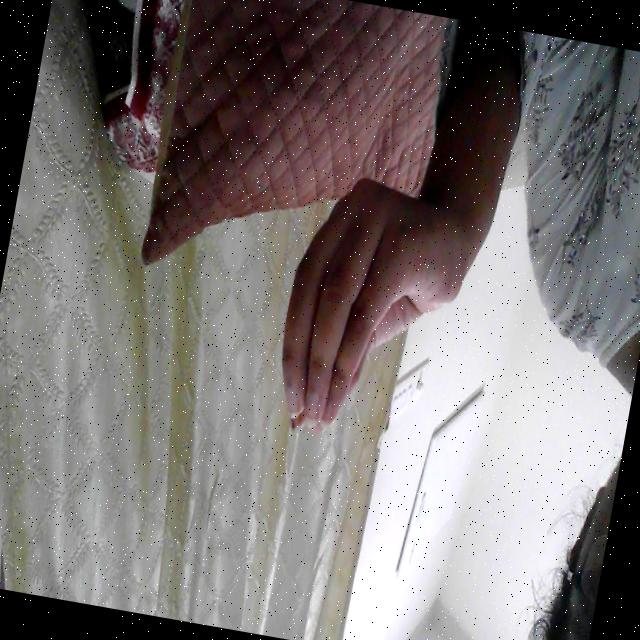Samdamsha: (242, 146, 492, 492)
